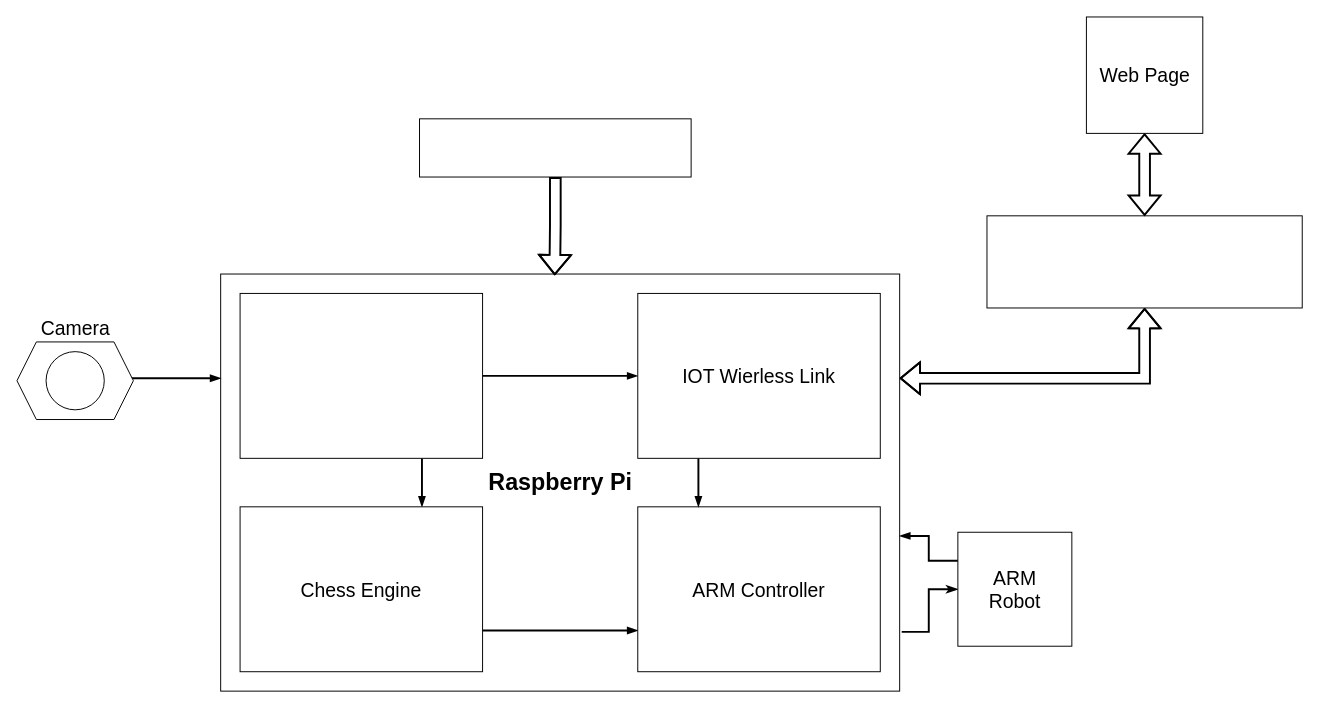
Image size: 1319x708. Some labels were removed from this diagram. The centre of each missing label's shape, as x and y in pixels:
Image Processing: [361,375]
Power Management: [555,147]
Web Server: [1144,261]
